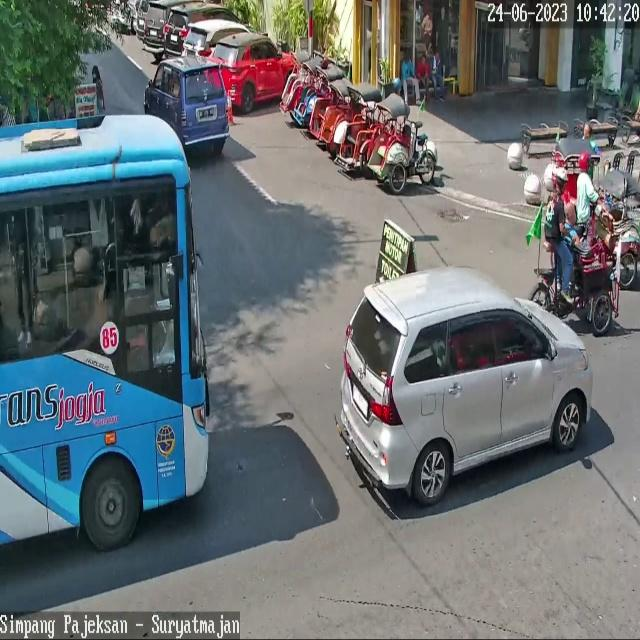car: (0, 114, 207, 551)
motorcycle: (336, 266, 592, 508), (145, 56, 230, 154), (206, 33, 300, 114), (163, 4, 246, 56), (180, 21, 252, 57), (143, 0, 169, 53)
